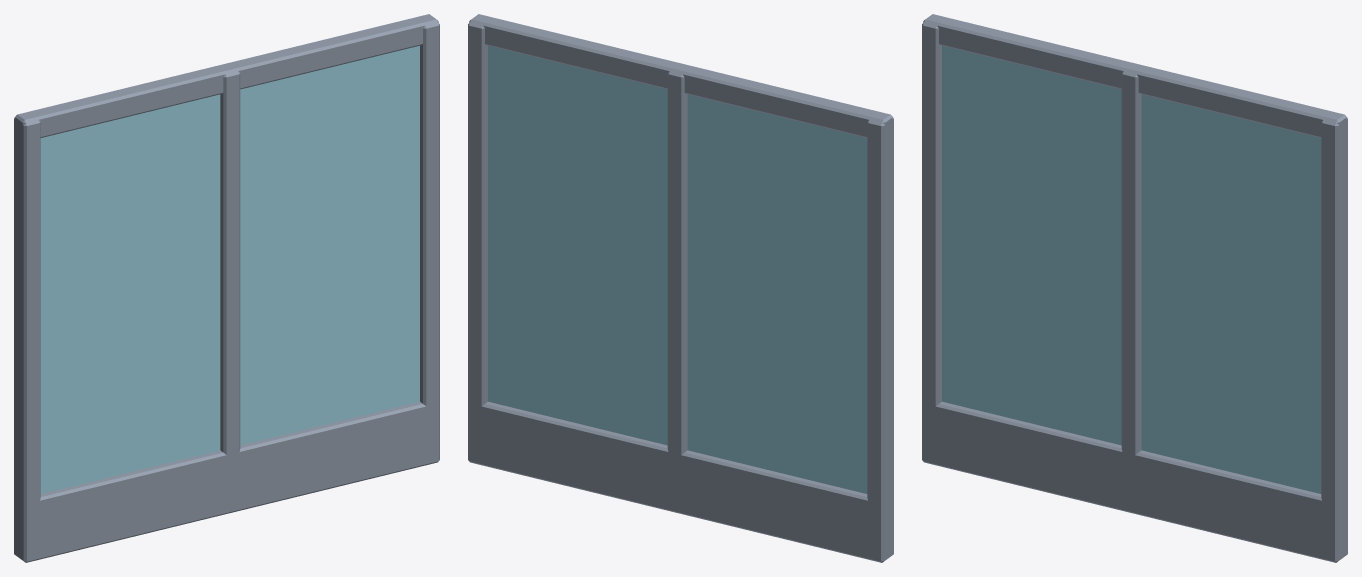
Rendered from prop_glass_partition.obj.
3 renders of one model, left to right at view 1: azimuth 30°, elevation 25°; view 2: azimuth 150°, elevation 25°; view 3: azimuth 330°, elevation 25°, orthographic.
Visible parts, largest first — view 1: PaneL, PaneR, BotRail, TopRail, Post_-0.44, Post_0.5, Post_1.44; view 2: PaneL, PaneR, BotRail, TopRail, Post_-0.44, Post_0.5, Post_1.44; view 3: PaneR, PaneL, BotRail, TopRail, Post_1.44, Post_0.5, Post_-0.44.
Part boxes in pixels (x1,y1,x2,y2): PaneL: (40,94,220,493); PaneR: (240,45,419,445); BotRail: (14,401,439,562); TopRail: (15,14,438,139); Post_-0.44: (14,117,40,556); Post_0.5: (220,71,240,507); Post_1.44: (420,22,439,455); PaneL: (687,94,867,493); PaneR: (488,45,667,445); BotRail: (468,401,893,562); TopRail: (469,14,892,139); Post_-0.44: (867,117,893,556); Post_0.5: (667,71,687,507); Post_1.44: (468,22,487,459); PaneR: (1141,94,1321,493); PaneL: (942,45,1121,445); BotRail: (922,401,1347,562); TopRail: (923,14,1346,139); Post_1.44: (1321,117,1347,556); Post_0.5: (1121,71,1141,507); Post_-0.44: (922,22,941,459).
Bounding box in the file's own units: 1.96 × 1.99 × 0.1.
